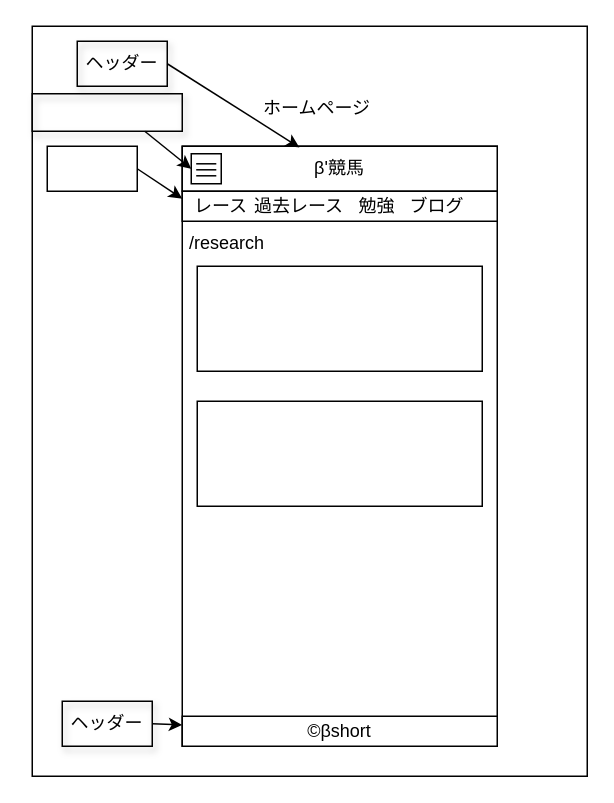
Image size: 614x803. Some labels were removed from this diagram. Each missing label, with the centre of its shape:
"サイドバーボタン" belongs at [108,114].
"ヘッダーメニュー" belongs at [91,168].
